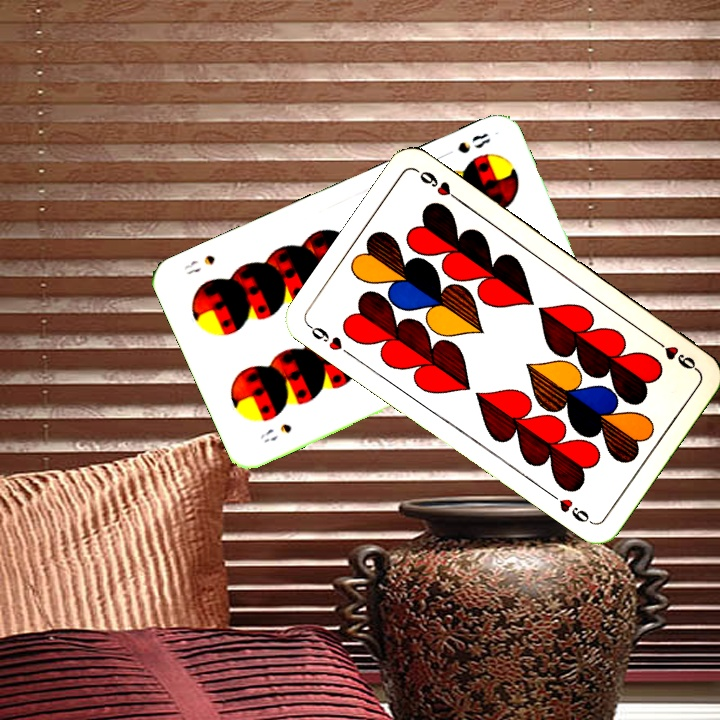H9: (649, 334, 701, 373), (305, 321, 356, 360)
S8: (453, 129, 493, 156), (256, 419, 295, 445)
